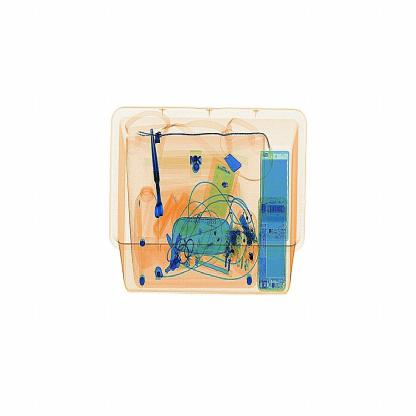gun: (144, 117, 170, 236)
